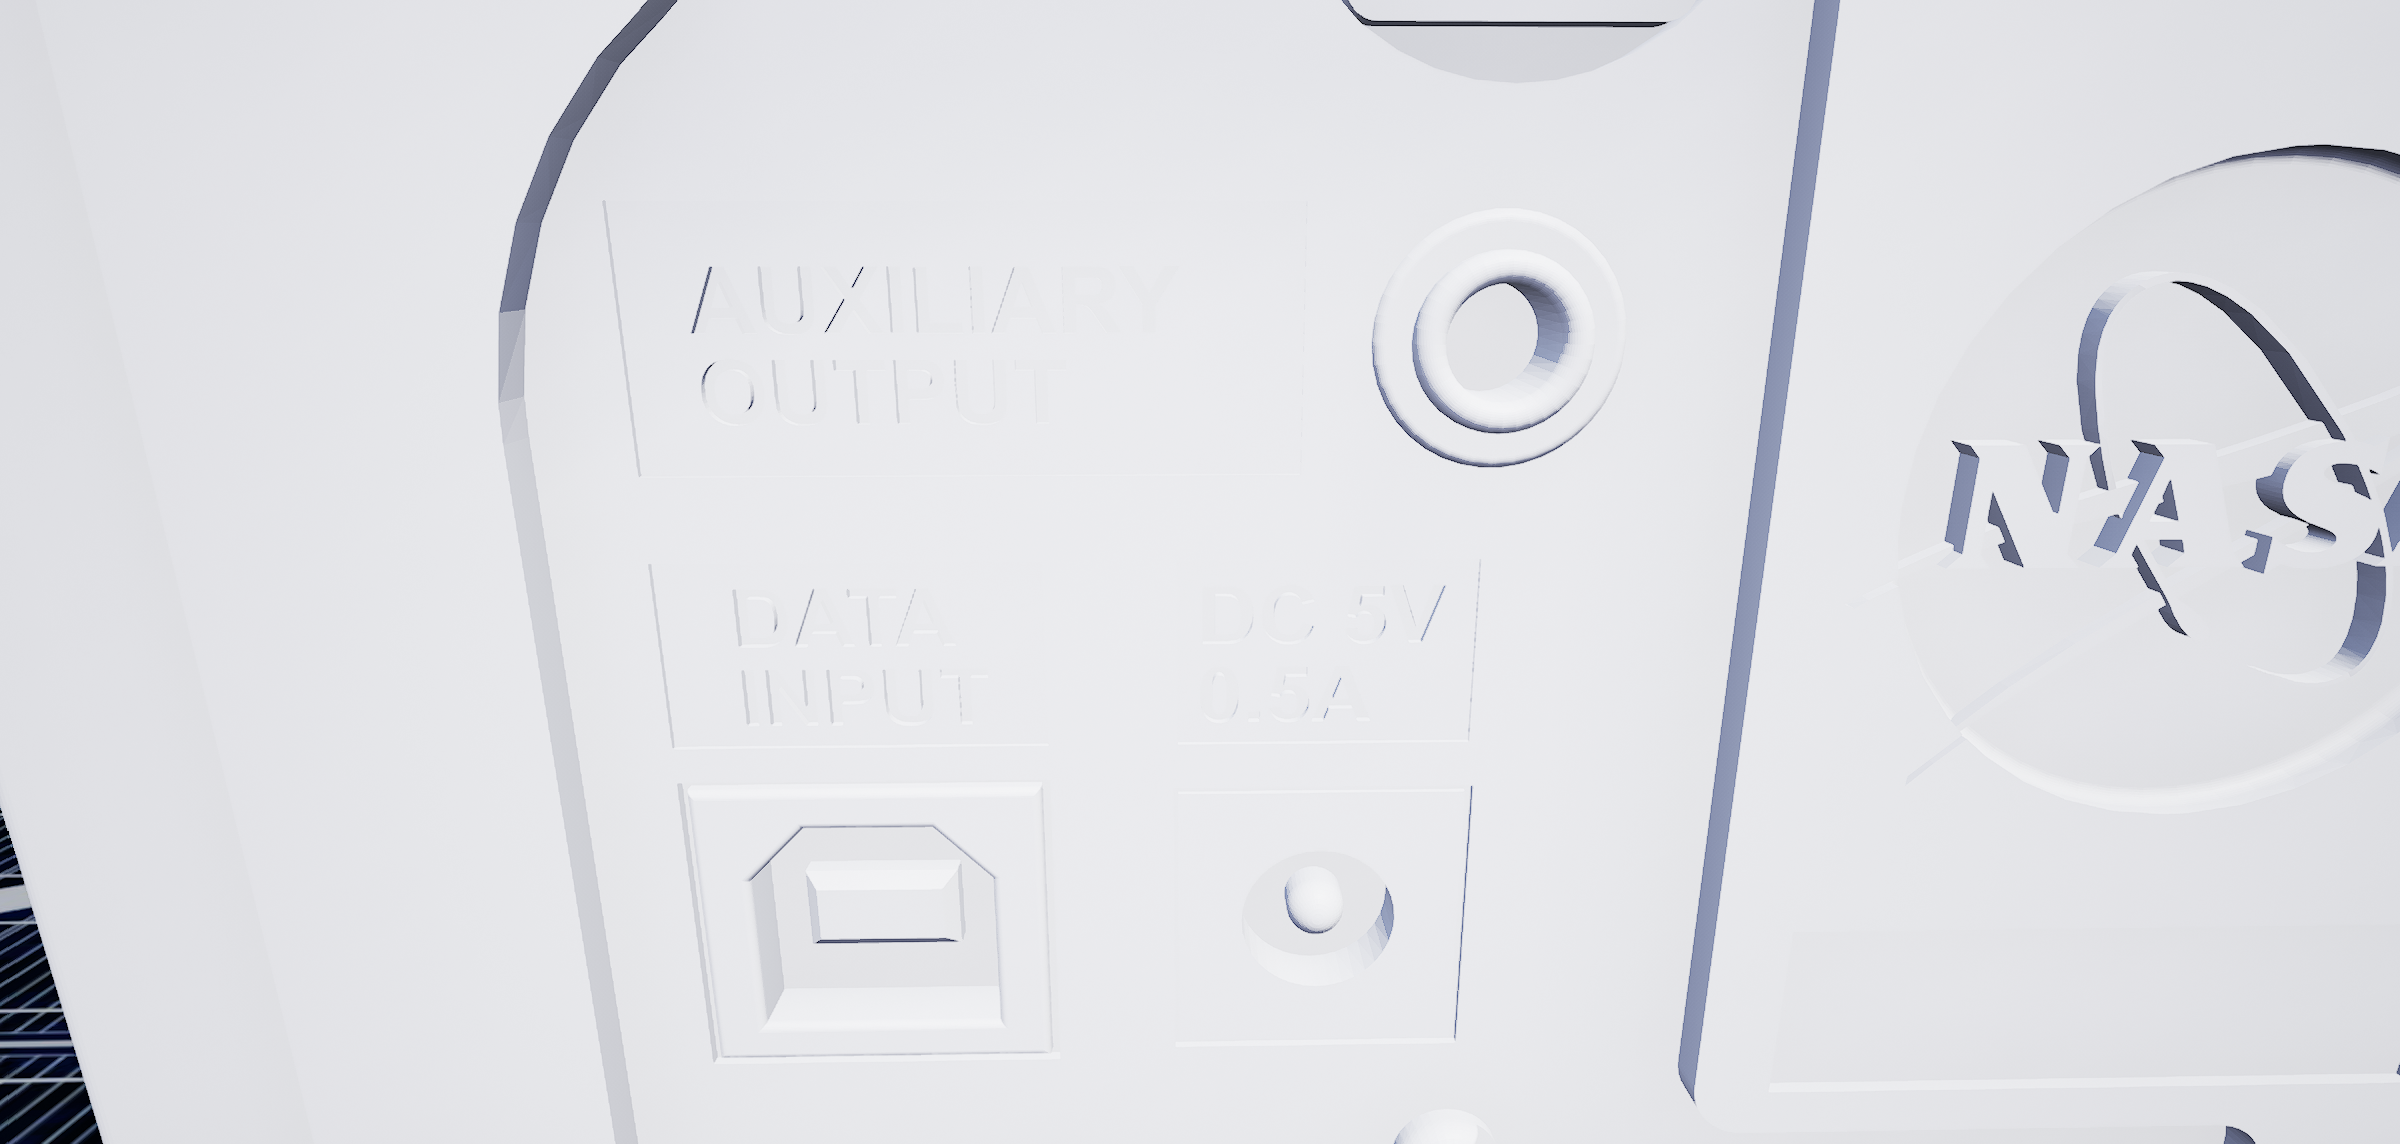aux: (1365, 194, 1633, 484)
dc: (1223, 818, 1423, 1005)
usb: (747, 812, 1019, 1046)
